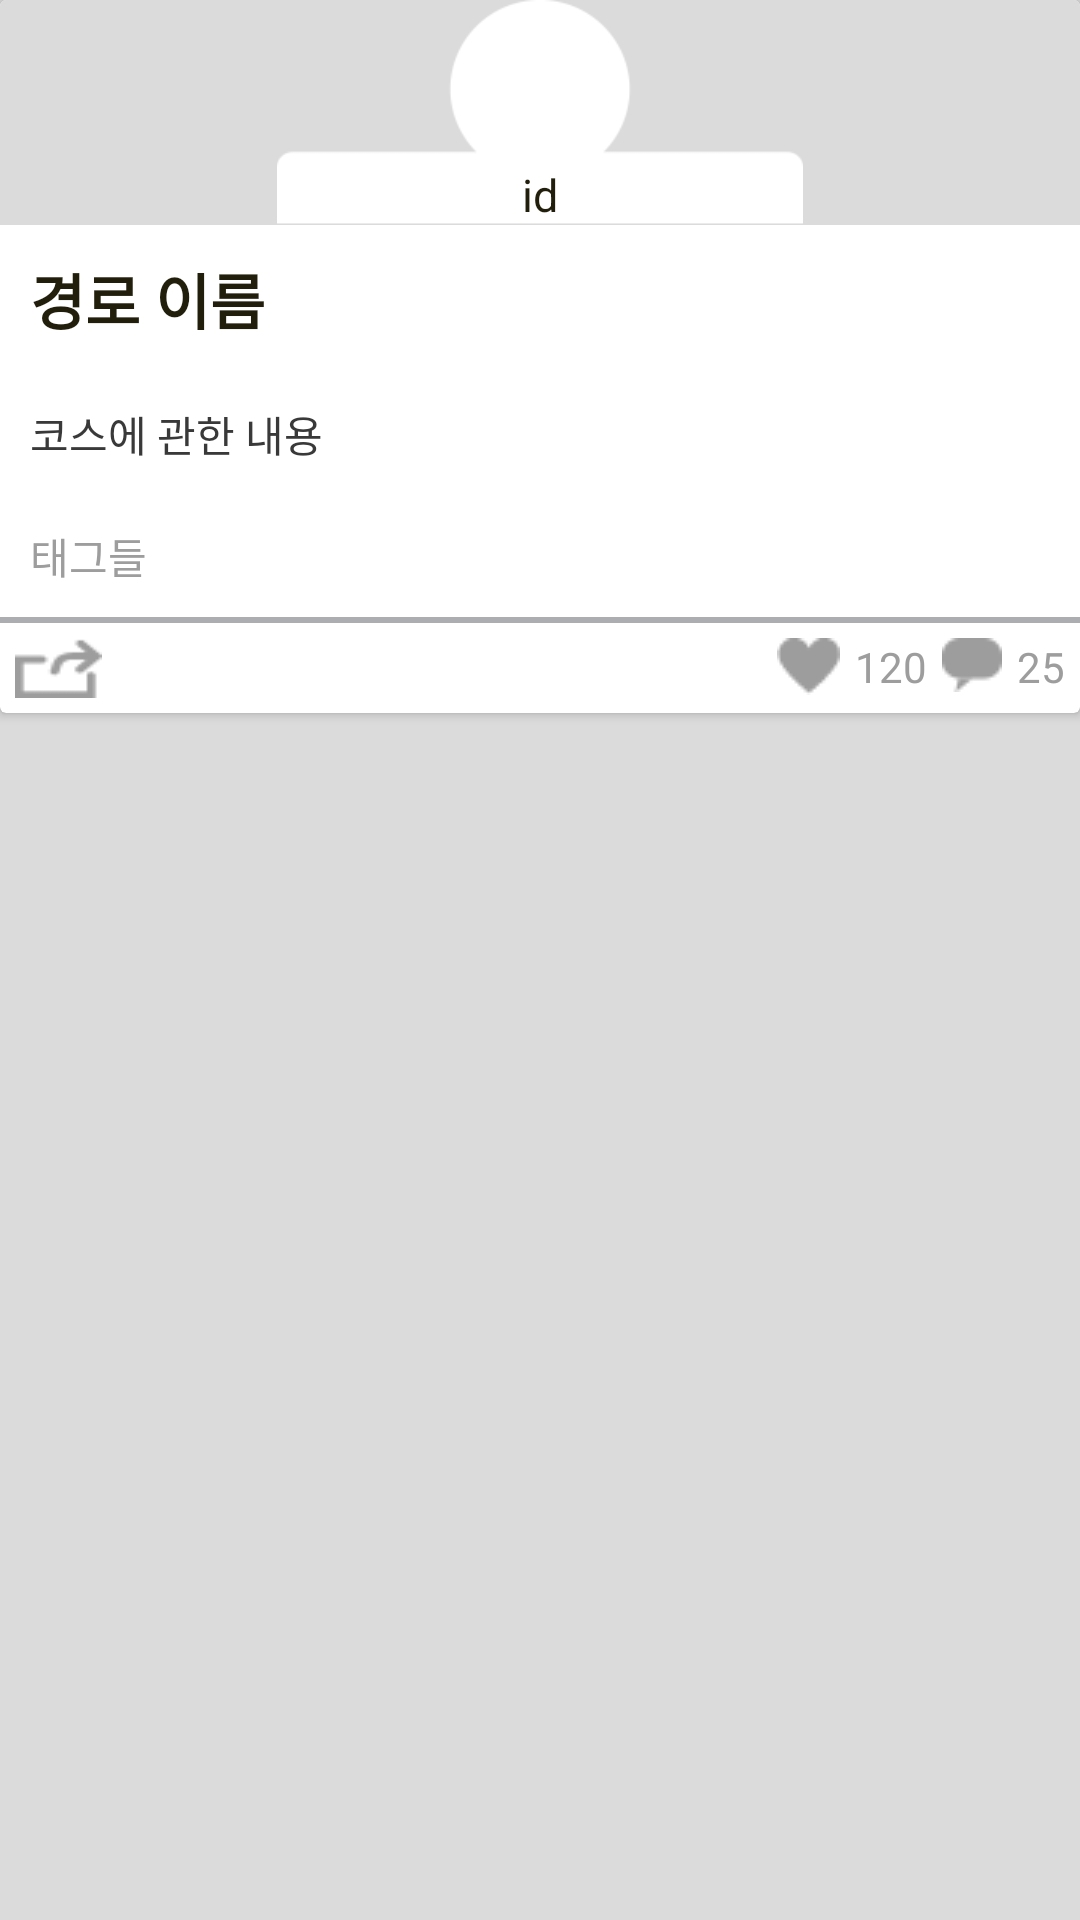

Icons on this 1080*1920 Android screen, each with the point to tap as point (x, y):
comment: point (972, 665)
like: point (808, 665)
share: point (58, 669)
